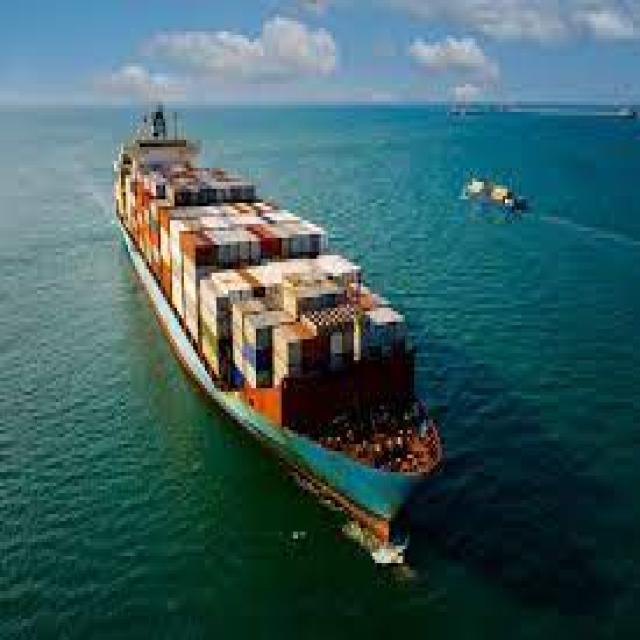cargoship: (109, 102, 438, 534)
fishing boat: (459, 169, 522, 211)
